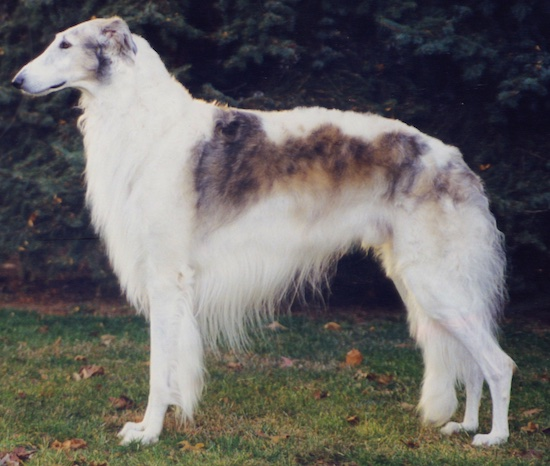borzoi: (5, 14, 527, 458)
